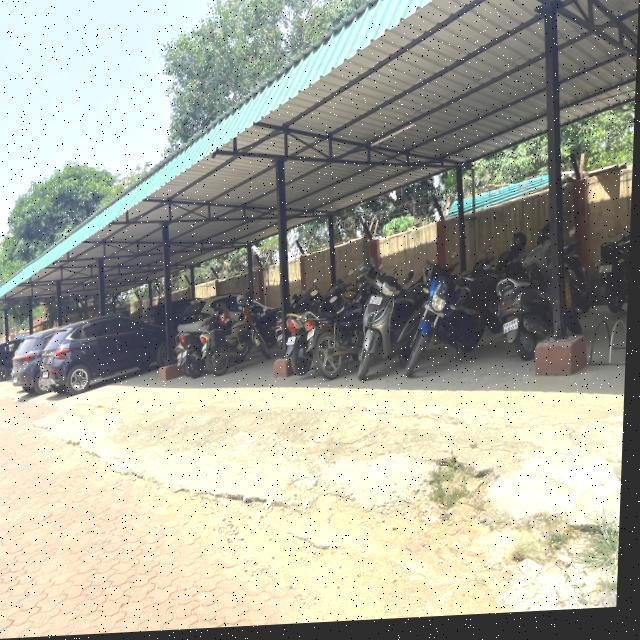bike: (409, 267, 493, 390), (498, 251, 576, 376), (359, 274, 420, 390), (202, 305, 277, 379), (300, 300, 361, 390), (596, 223, 633, 326), (287, 297, 314, 386), (179, 322, 214, 380)
car: (45, 310, 179, 396), (16, 323, 63, 400), (187, 294, 278, 333), (148, 301, 190, 330), (0, 338, 21, 387)
